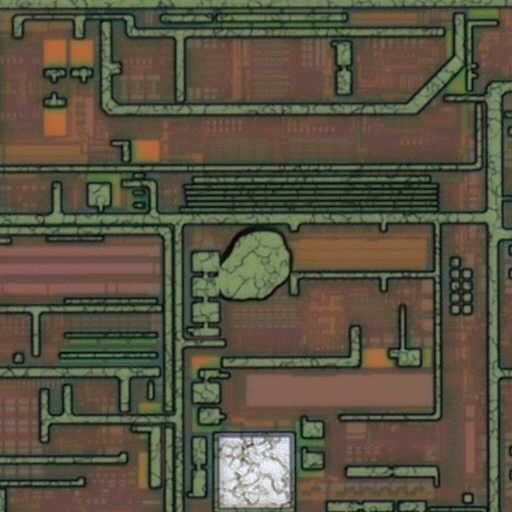BLOCK ETCH: (211, 224, 299, 309)
